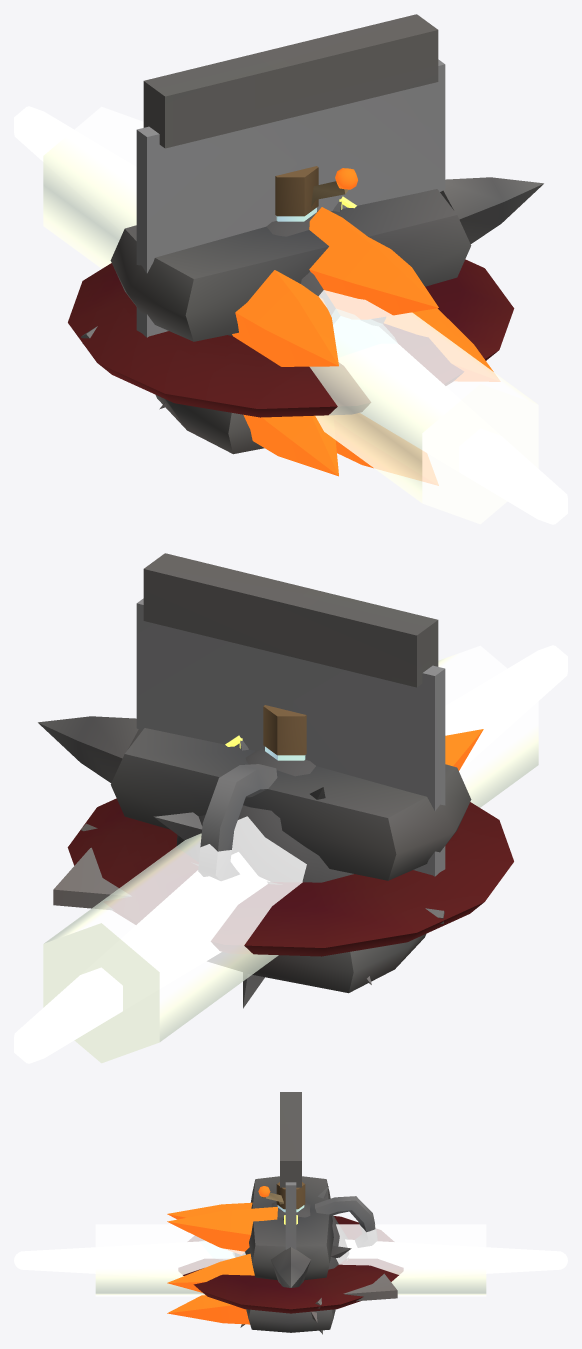
File: proyectiles.glb
3 renders of one model, top to bottom at view 1: azimuth 30°, elevation 25°; view 2: azimuth 150°, elevation 25°; view 3: azimuth 270°, elevation 25°, orthographic. The views are drawn at different scales.
Visible parts, largest first — view 1: cuerpo (×9); view 2: cuerpo (×11); view 3: cuerpo (×11).
Part boxes in pixels (x1=…): cuerpo (×9): x1=14, y1=14, x2=567, y2=524; cuerpo (×11): x1=14, y1=553, x2=567, y2=1063; cuerpo (×11): x1=14, y1=1092, x2=567, y2=1334.
Bounding box in the file's own units: 0.3 × 0.2537 × 0.624.
